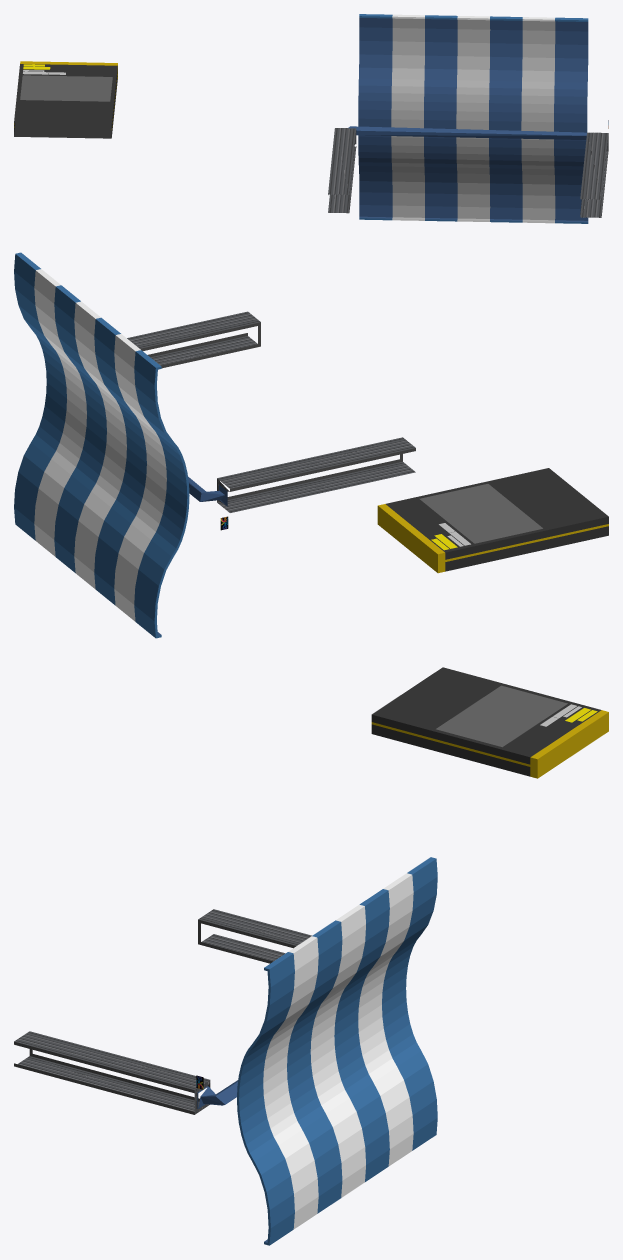
File: Low 정류장.fbx
3 renders of one model, top to bottom at view 1: azimuth 30°, elevation 25°; view 2: azimuth 150°, elevation 25°; view 3: azimuth 270°, elevation 25°, orthographic. The views are drawn at different scales.
Visible parts, largest first — view 1: Group_131657, Group_131678, Group_131647, Object001, Object002, Group_131680; view 2: Group_131657, Group_131678, Object002, Object001, Group_131647; view 3: Group_131657, Group_131678, Object001, Object002.
Boxes of the visible parts, box(x1,y1,x2,y2) form: Group_131657: box(358, 14, 588, 223); Group_131678: box(14, 61, 117, 138); Group_131647: box(348, 126, 586, 144); Object001: box(580, 132, 608, 217); Object002: box(328, 128, 356, 213); Group_131680: box(23, 64, 65, 74); Group_131657: box(14, 252, 189, 638); Group_131678: box(377, 468, 608, 573); Object002: box(217, 437, 415, 512); Object001: box(127, 311, 260, 368); Group_131647: box(188, 476, 229, 506); Group_131657: box(237, 857, 437, 1245); Group_131678: box(371, 667, 608, 778); Object001: box(14, 1031, 210, 1114); Object002: box(198, 909, 311, 963).
Bounding box in the file's own units: 368 × 140 × 274.
